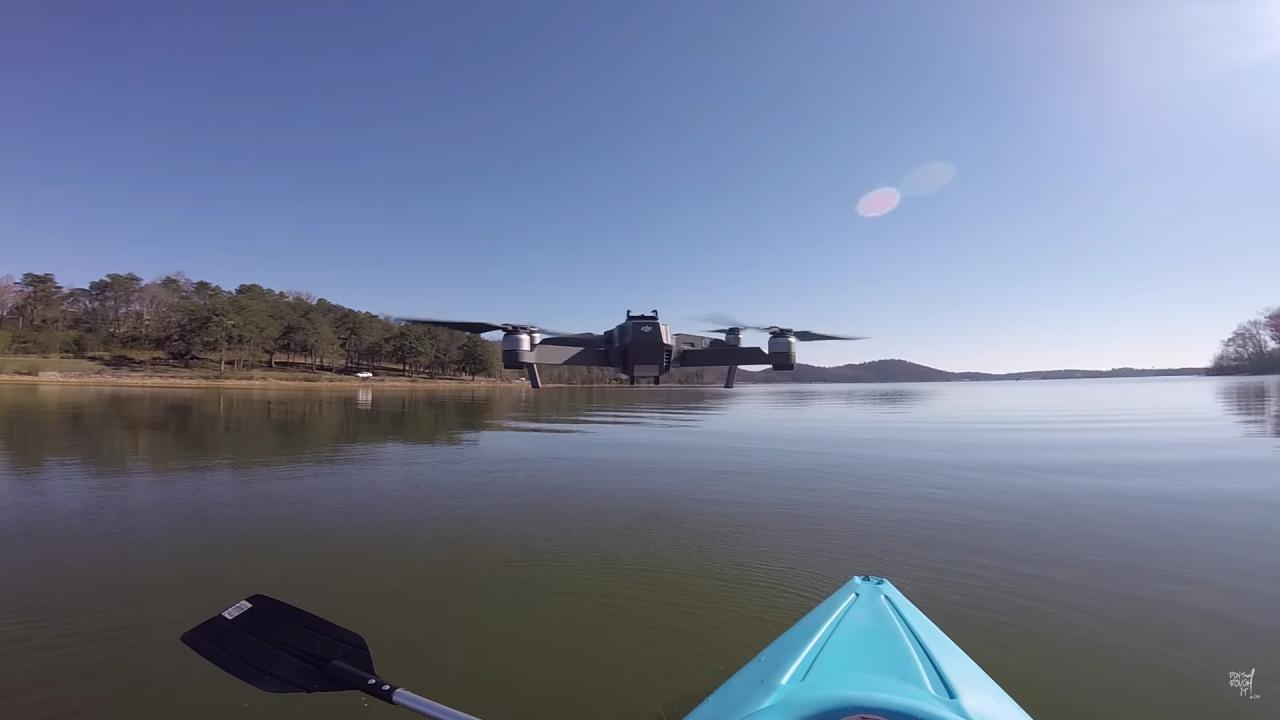Drone: (392, 302, 883, 398)
